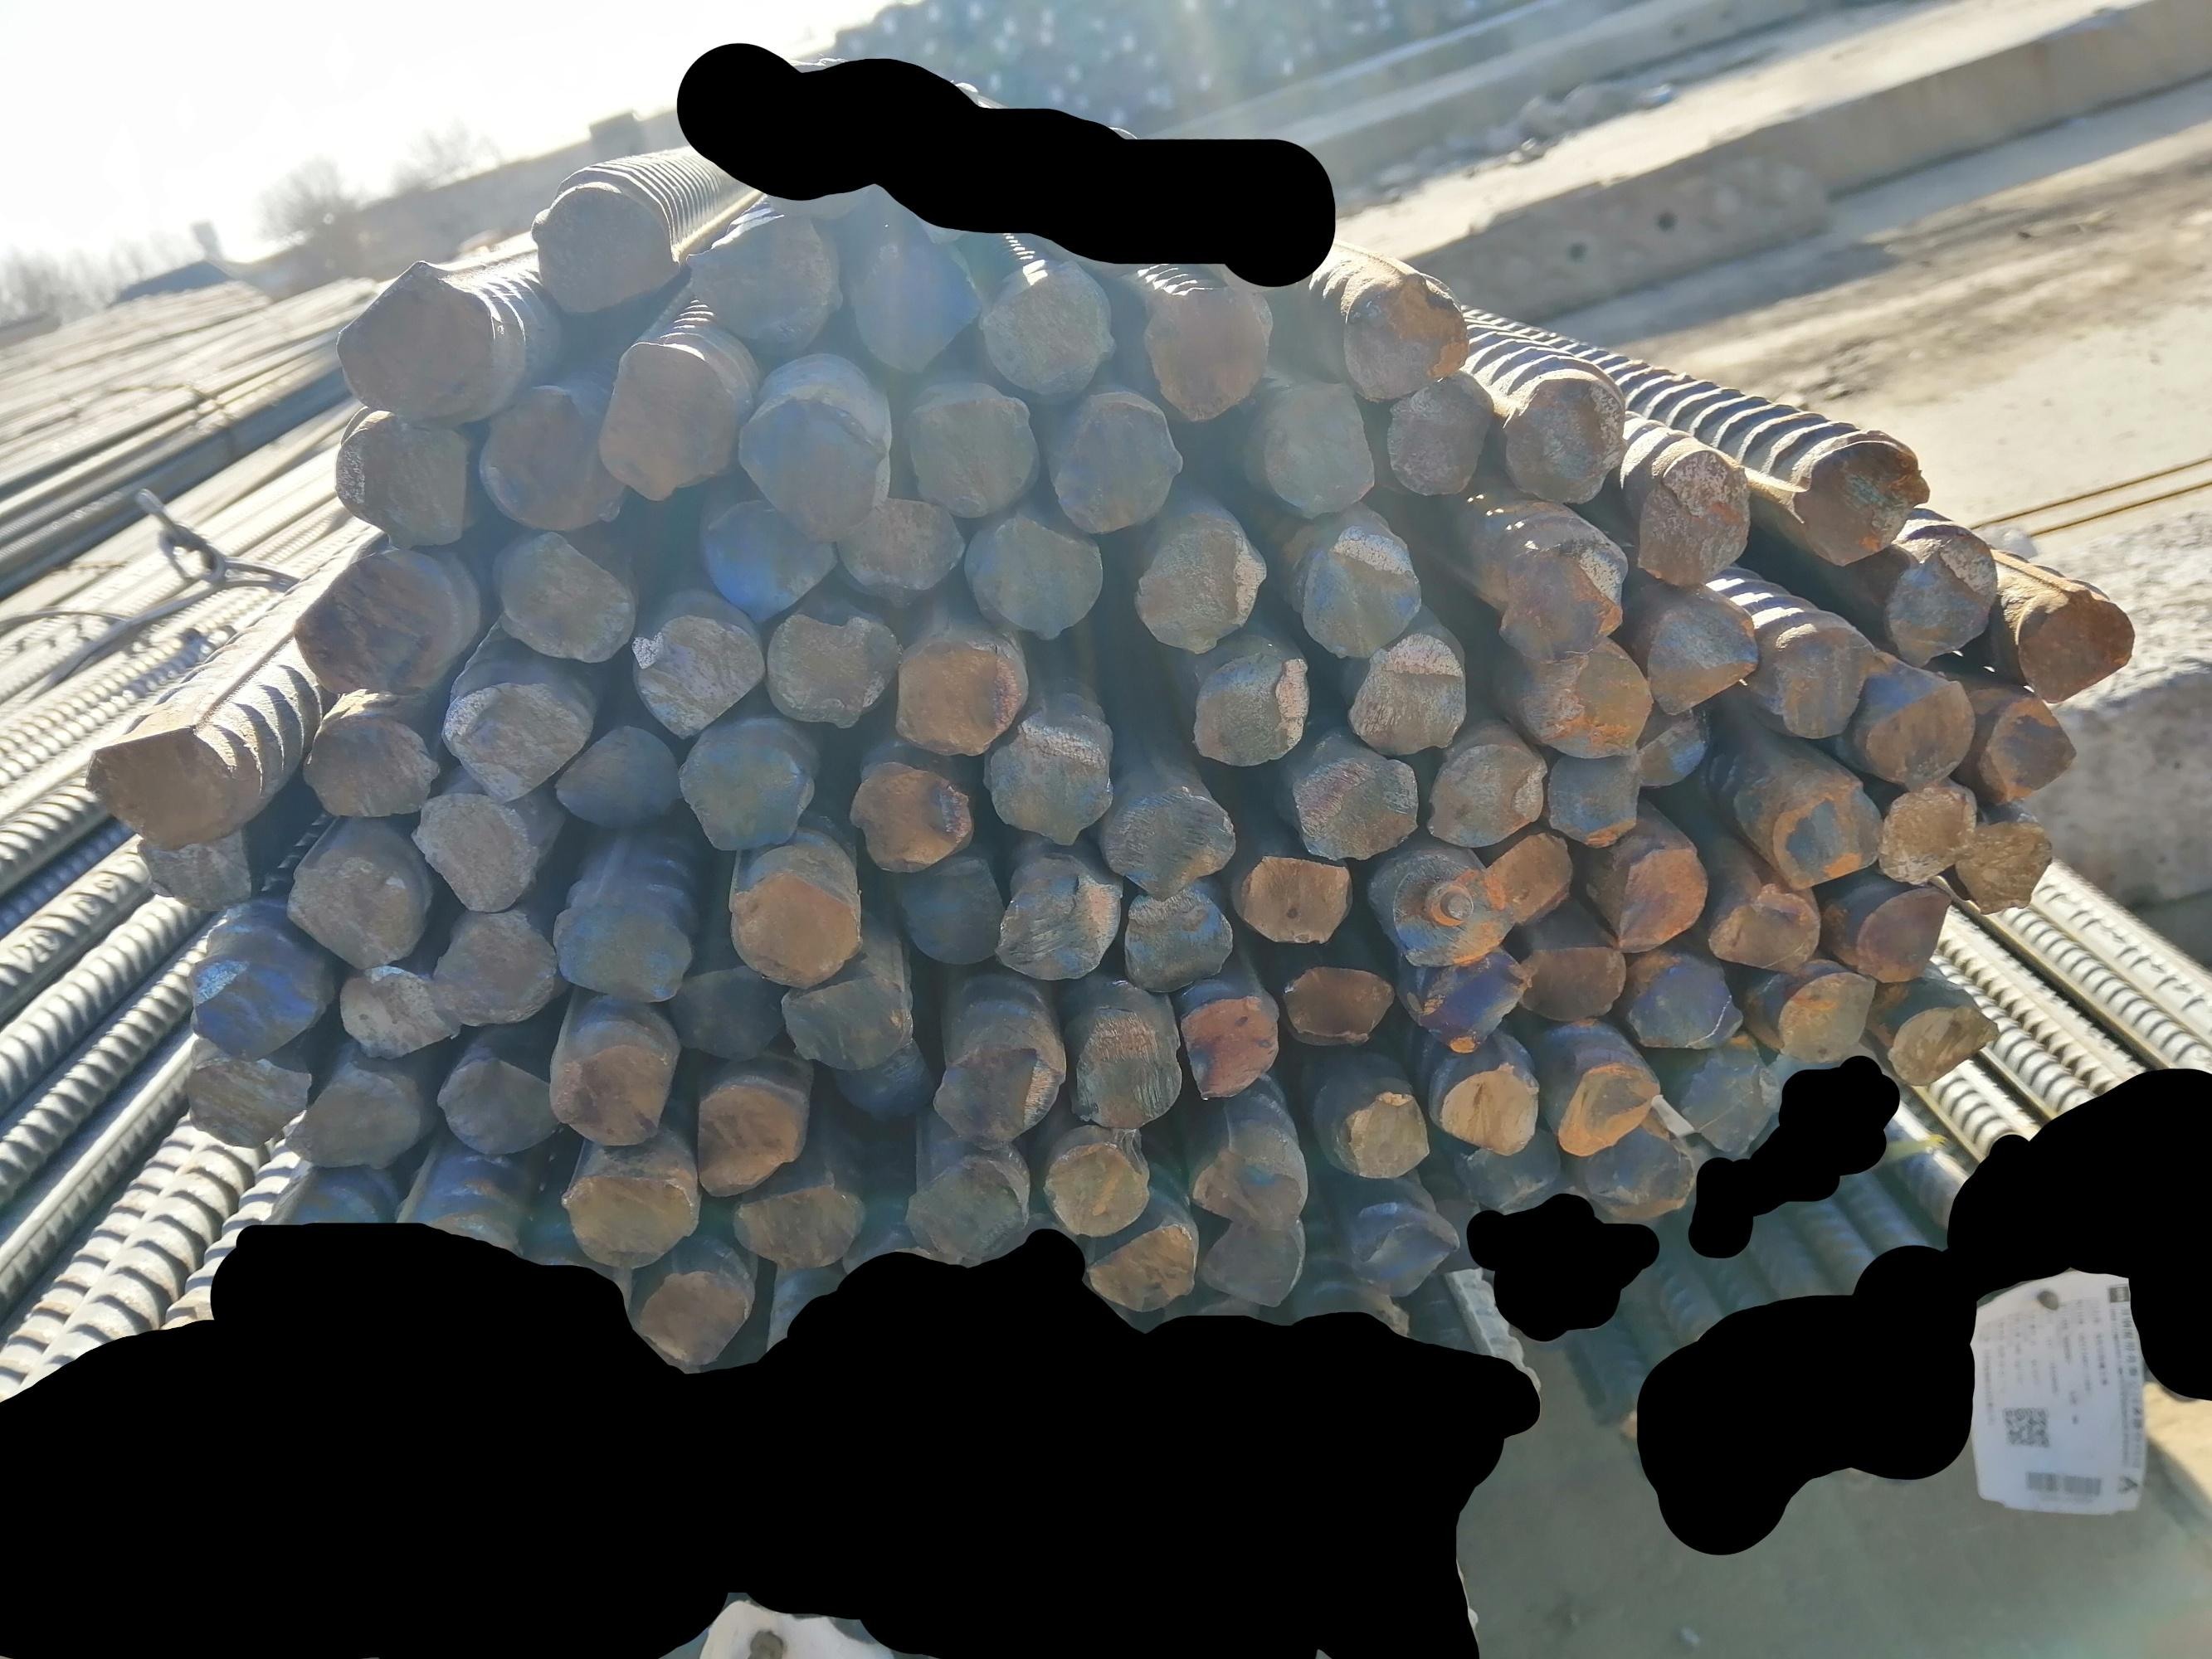bar: (327, 253, 503, 406), (293, 552, 468, 698), (592, 335, 735, 509), (730, 387, 891, 539), (468, 383, 626, 528), (79, 718, 238, 851), (1135, 279, 1283, 421), (1131, 518, 1273, 663), (689, 217, 845, 349), (523, 179, 672, 317), (1789, 425, 1928, 569), (893, 382, 1043, 515), (967, 270, 1117, 403), (329, 409, 473, 547), (1501, 361, 1631, 512), (1341, 263, 1477, 406), (1284, 519, 1427, 655), (963, 504, 1107, 639), (1049, 399, 1191, 535), (1251, 375, 1383, 521), (1090, 771, 1236, 903), (405, 783, 543, 922), (693, 489, 836, 621), (275, 849, 426, 973), (493, 535, 635, 665), (670, 727, 815, 855), (436, 681, 587, 803), (626, 607, 767, 737), (1183, 637, 1317, 773), (891, 627, 1032, 753), (1878, 528, 2003, 670), (1629, 579, 1751, 723), (850, 237, 979, 373), (546, 887, 696, 1003), (1495, 528, 1631, 655), (1511, 637, 1651, 761), (295, 703, 436, 825), (923, 1034, 1065, 1155), (1629, 450, 1755, 586), (767, 603, 903, 729), (183, 943, 327, 1061), (1383, 358, 1501, 501), (725, 867, 865, 987), (982, 721, 1113, 849), (843, 753, 977, 878), (1343, 627, 1467, 761), (558, 1160, 699, 1273), (547, 1031, 677, 1153), (775, 965, 921, 1073), (426, 909, 558, 1028), (1371, 849, 1505, 965), (992, 859, 1121, 980), (283, 1059, 417, 1174), (1423, 732, 1553, 849), (547, 719, 683, 829), (2014, 583, 2137, 704), (174, 1041, 312, 1150), (1403, 941, 1531, 1055), (689, 1073, 805, 1198), (1117, 881, 1236, 1000), (835, 491, 965, 599), (1771, 766, 1885, 888), (622, 1253, 753, 1360), (1293, 749, 1423, 855), (728, 1169, 863, 1272), (907, 1145, 1023, 1261), (891, 848, 1005, 965), (1071, 1011, 1185, 1127), (1629, 949, 1747, 1059), (1236, 843, 1359, 949), (1859, 677, 1976, 788), (1315, 1079, 1433, 1190), (1186, 1133, 1308, 1239), (1427, 1053, 1547, 1159), (1682, 1039, 1787, 1159), (1555, 1055, 1671, 1163), (1511, 929, 1629, 1035), (436, 1055, 558, 1157), (333, 965, 455, 1065), (1771, 622, 1875, 739), (1703, 875, 1824, 975), (672, 963, 791, 1065), (1074, 1215, 1203, 1309), (1609, 841, 1719, 949), (129, 824, 256, 915), (1040, 1133, 1148, 1241), (1195, 1208, 1307, 1311), (1766, 961, 1878, 1064), (1577, 1131, 1697, 1227), (1185, 985, 1283, 1102), (1847, 881, 1961, 980), (1279, 963, 1397, 1058), (1351, 1193, 1457, 1296), (1445, 1126, 1553, 1227), (1984, 693, 2081, 805), (1471, 825, 1577, 927), (1876, 784, 1980, 888), (1547, 745, 1648, 846), (1886, 994, 2000, 1082), (819, 1031, 928, 1123), (1955, 818, 2054, 915), (1623, 692, 1708, 790)
